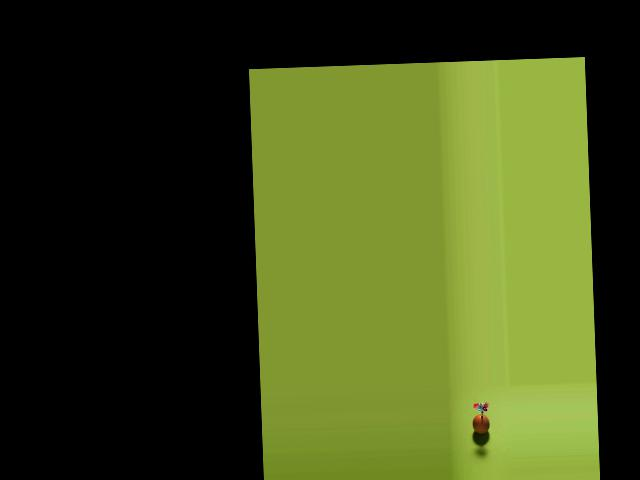egg: (472, 414, 490, 434)
